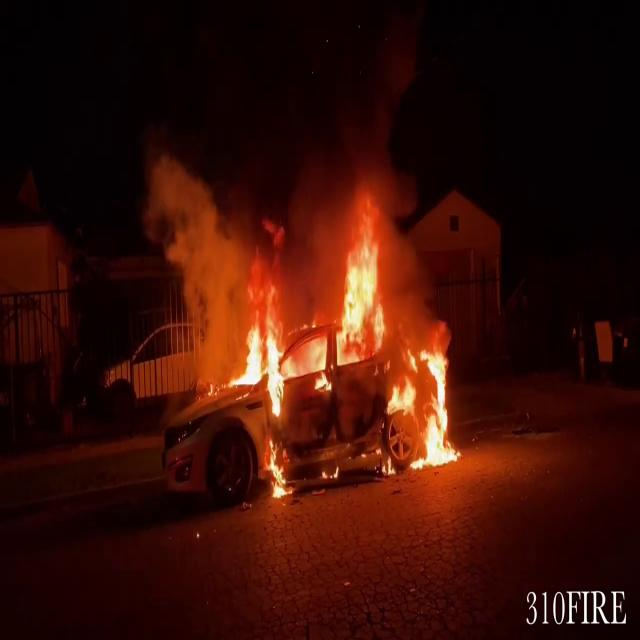Fire: (220, 215, 460, 488)
